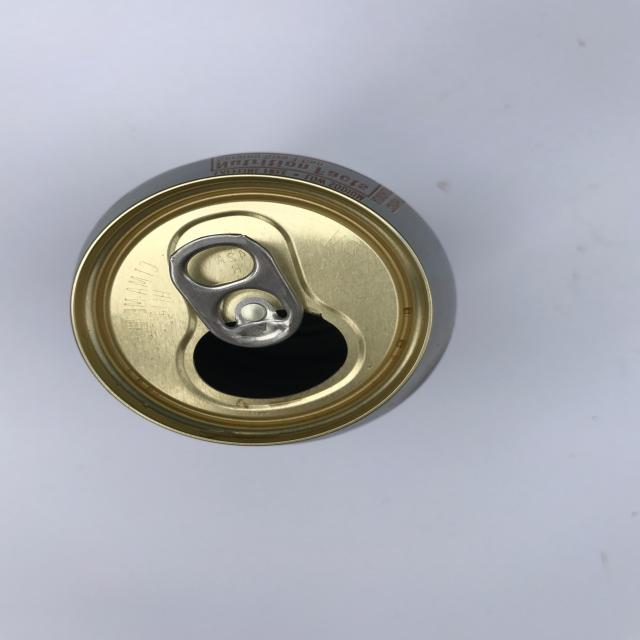metal: (70, 154, 456, 446)
